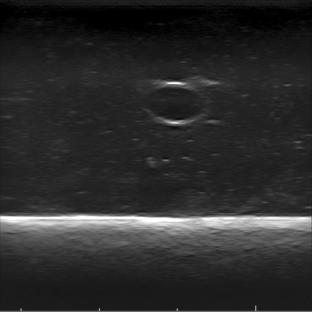vessel: (142, 80, 207, 128)
